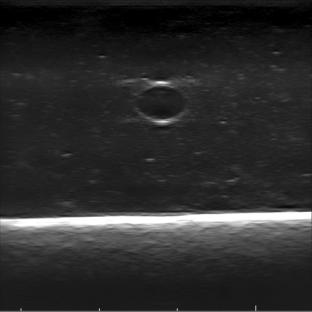vessel: (132, 79, 189, 125)
